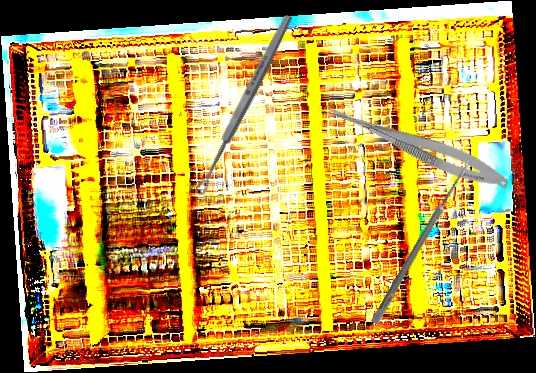Micro Scissor: (313, 96, 515, 196)
Surgical Spoon: (191, 12, 296, 198), (370, 155, 475, 326)
